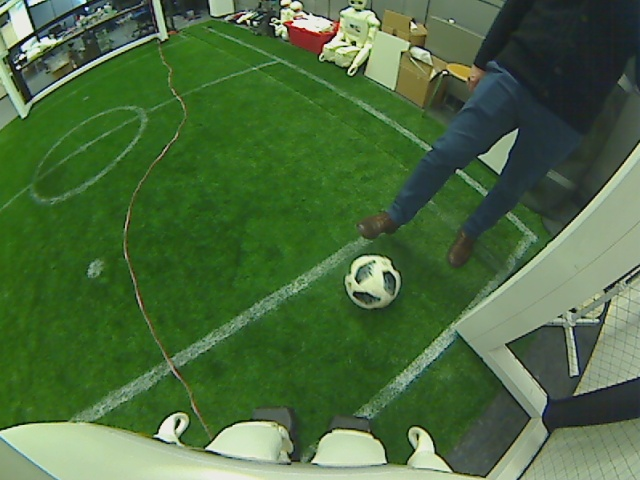ball: (342, 254, 403, 310)
